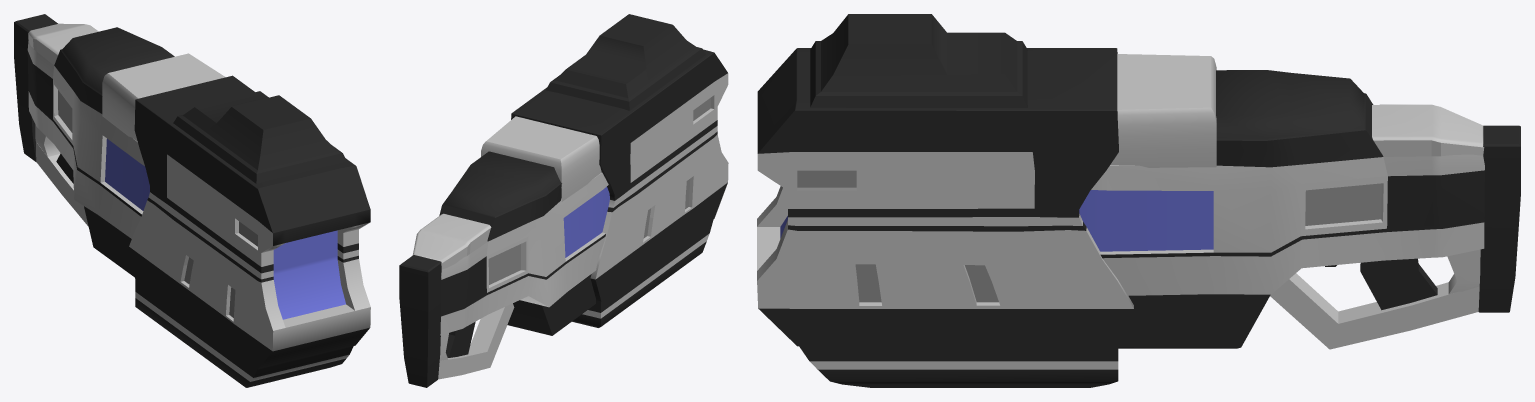
Rendered from GUNID.fbx.
The picture shows the model from 3 angles, left to right: view 1: azimuth 30°, elevation 25°; view 2: azimuth 150°, elevation 25°; view 3: azimuth 270°, elevation 25°; orthographic projection. The views are drawn at different scales.
Parts seen in each view (by area): view 1: pasted__Gun; view 2: pasted__Gun; view 3: pasted__Gun.
Part boxes in pixels (x1,y1,x2,y2): pasted__Gun: [14, 14, 370, 387]; pasted__Gun: [399, 14, 728, 387]; pasted__Gun: [757, 14, 1520, 387].
Size of the model in its own units: 6.57 by 16.16 by 33.22.
